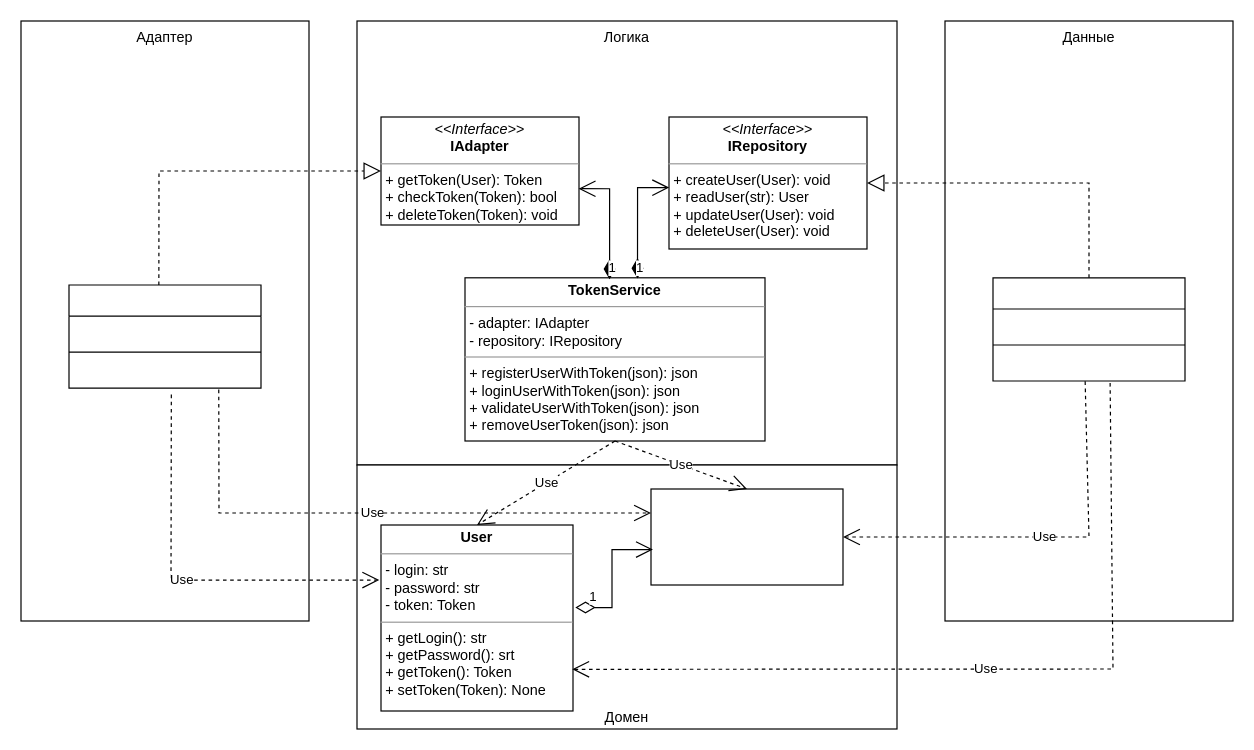
The diagram is 1254 pixels wide and 750 high, and some of its shapes have lost their labels. Here are the shapes that lost their labels. From the top down, the centre of each, then its label:
At pixel 164 336: "Adapter".
At pixel 1088 329: "Repository".
At pixel 746 536: "Token - token: str + getToken(): str".
